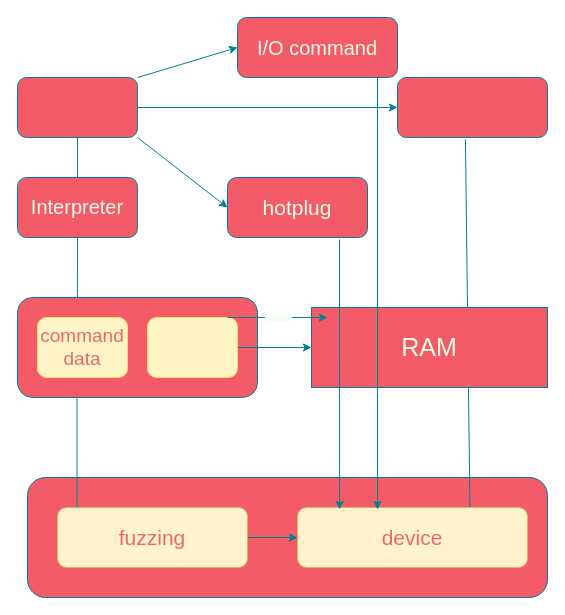
The diagram is 565 pixels wide and 615 high, and some of its shapes have lost their labels. Here are the shapes that lost their labels. From the top down, the centre of each, then its label:
At pixel 77 107: "command".
At pixel 472 107: "Pattern Table".
At pixel 192 347: "DMA data".
